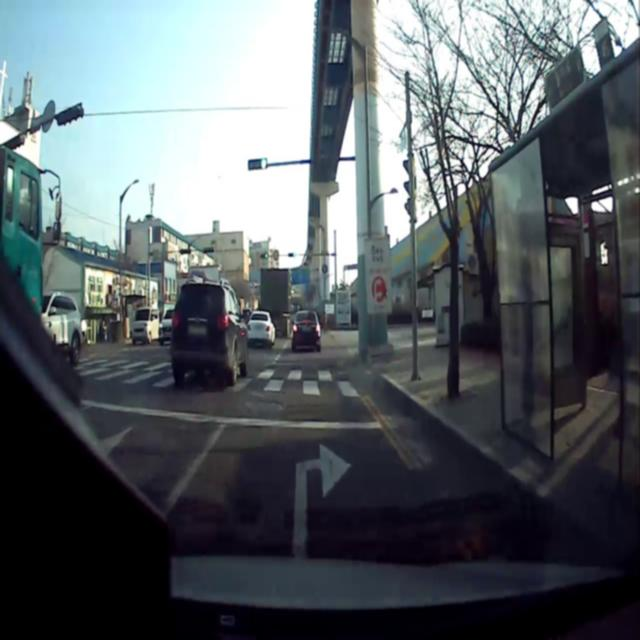Green Light: (260, 156, 268, 169), (264, 252, 268, 258), (293, 252, 296, 258)
